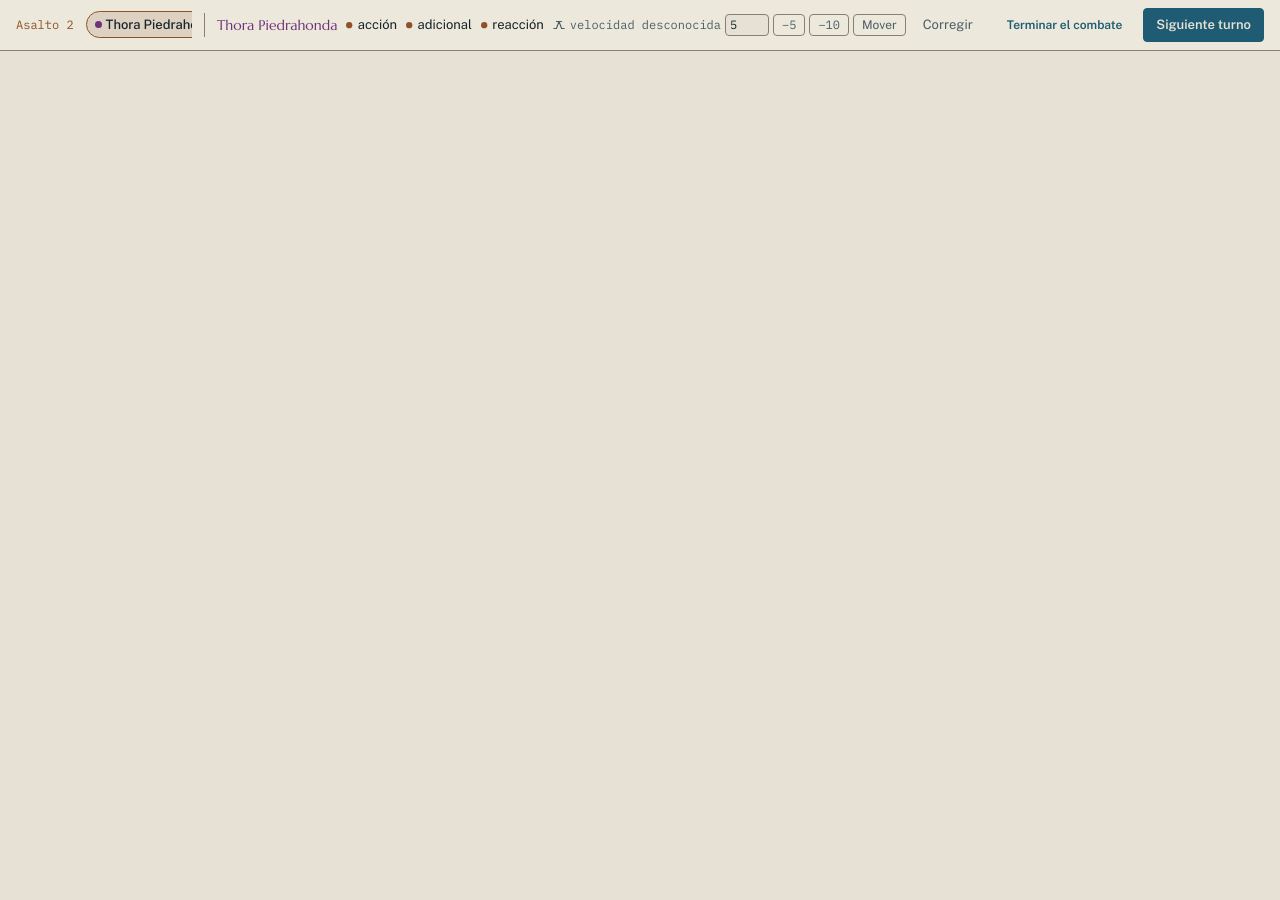
Test: la propuesta de experiencia al terminar el combate › sin xpPropuesto en la respuesta, no aparece
Click the button "Terminar el combate": [1065, 25] box [994,9,1135,41]
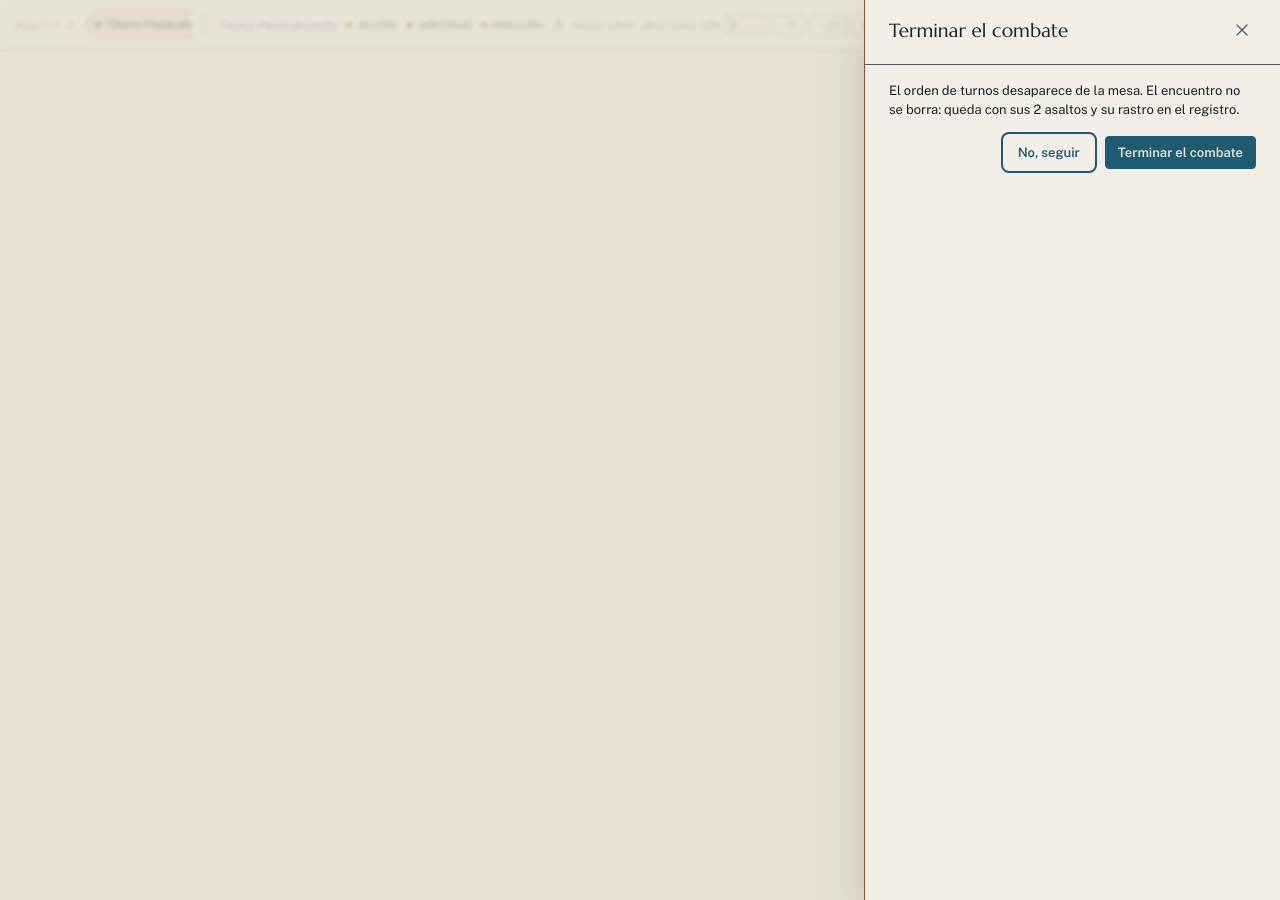
Click the button "Terminar el combate": [1180, 153] box [1105,136,1256,169]
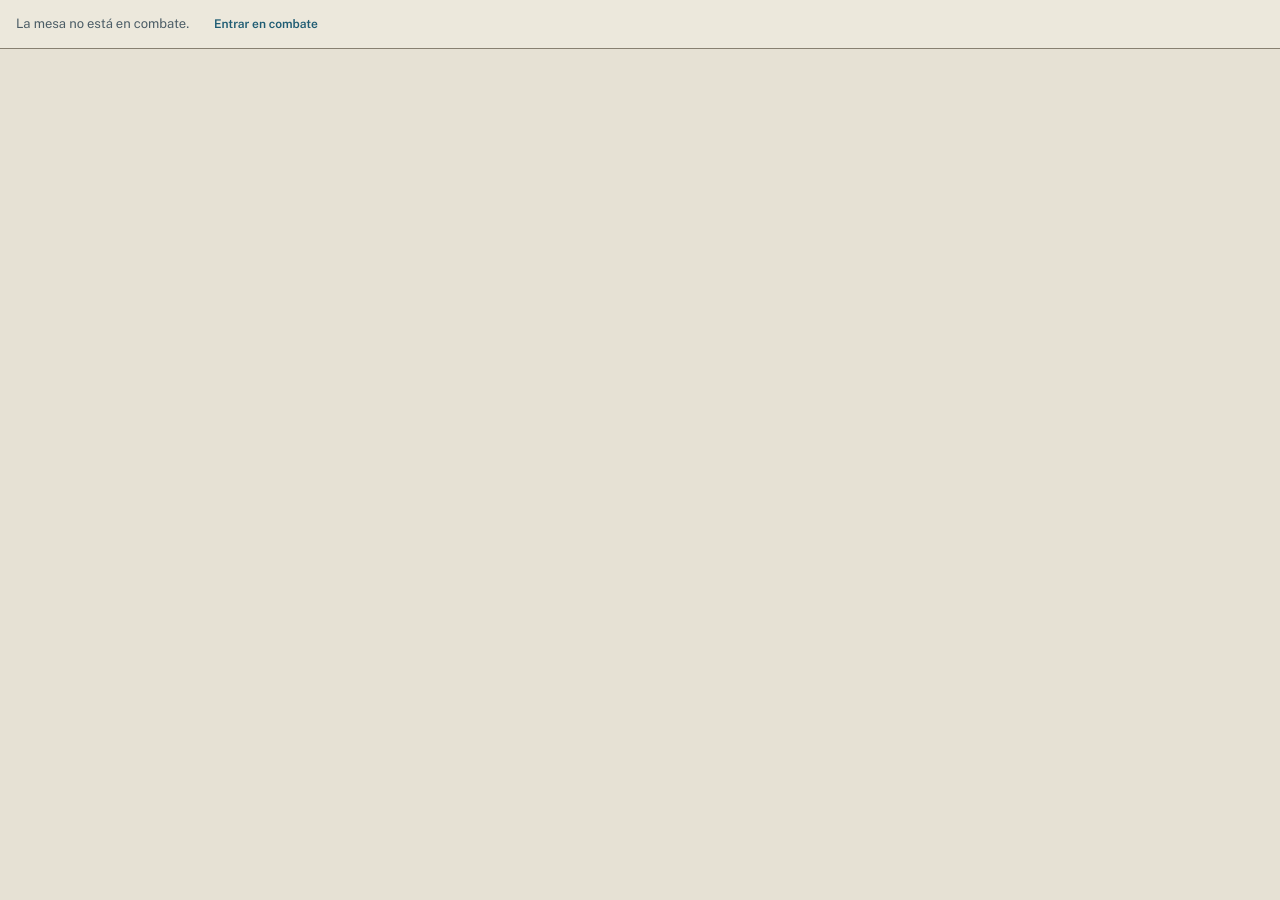
Expected: the dialog is gone
Expected: the text "orden de turnos" is gone
